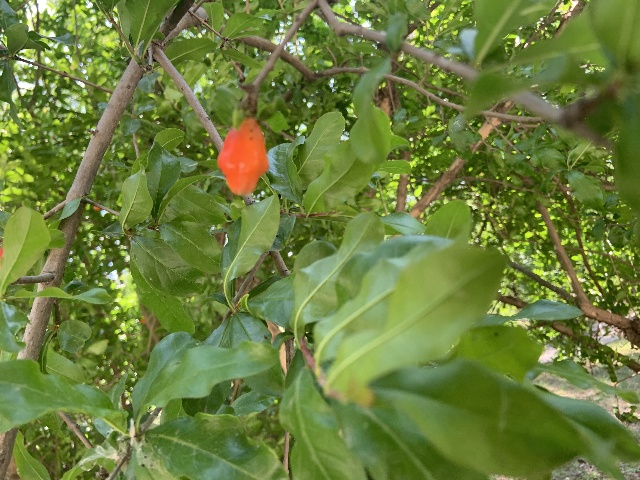bud: (217, 116, 268, 196)
